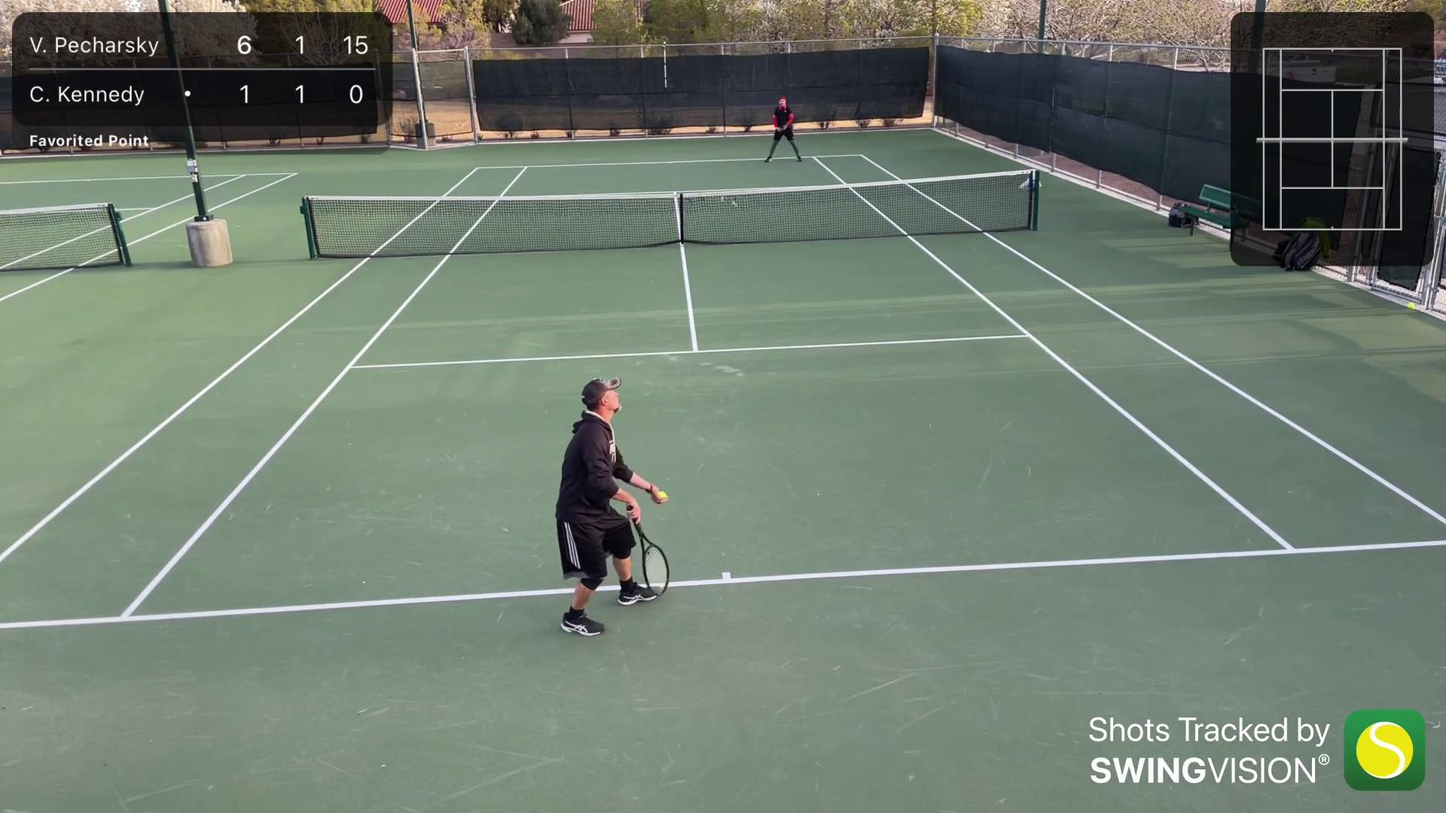ball: (658, 489, 668, 496), (1226, 68, 1230, 71)
